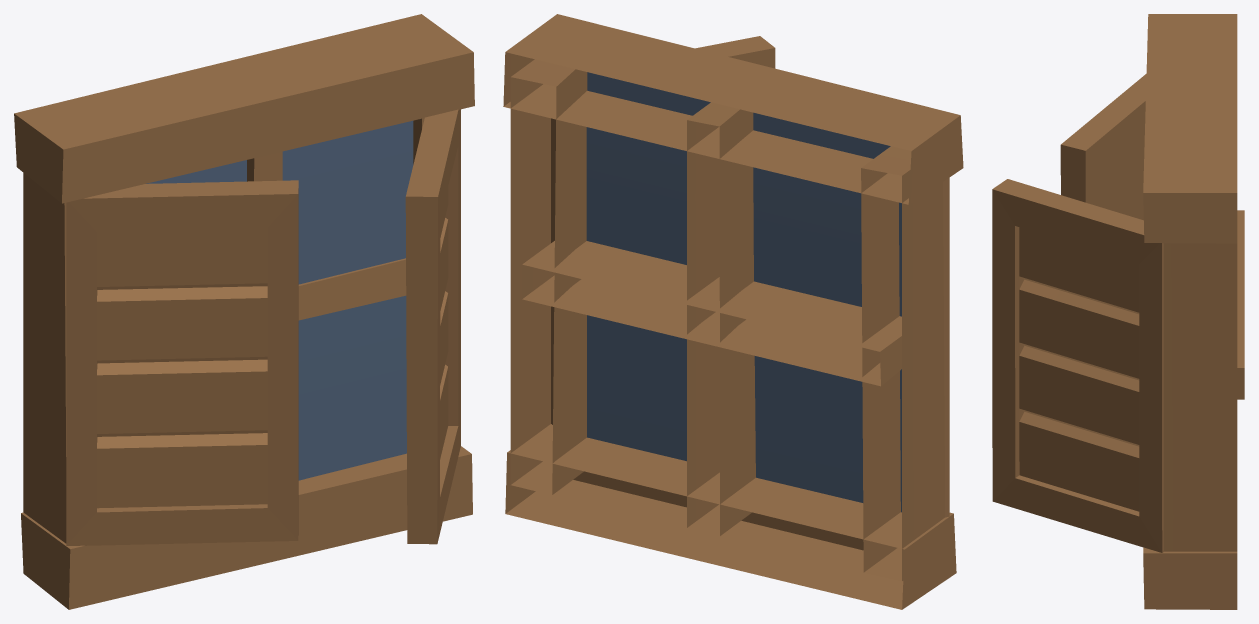
Rendered from House_Window_J.fbx.
3 views of the same model, side by side, from view 1: azimuth 30°, elevation 25°; view 2: azimuth 150°, elevation 25°; view 3: azimuth 270°, elevation 25° (orthographic). The views are drawn at different scales.
Parts seen in each view (by area): view 1: House_Window_J; view 2: House_Window_J; view 3: House_Window_J.
Part boxes in pixels (x1,y1,x2,y2): House_Window_J: (14, 14, 474, 609); House_Window_J: (503, 14, 963, 609); House_Window_J: (992, 14, 1244, 609).
Size of the model in its own units: 88.35 by 95.07 by 52.17.
